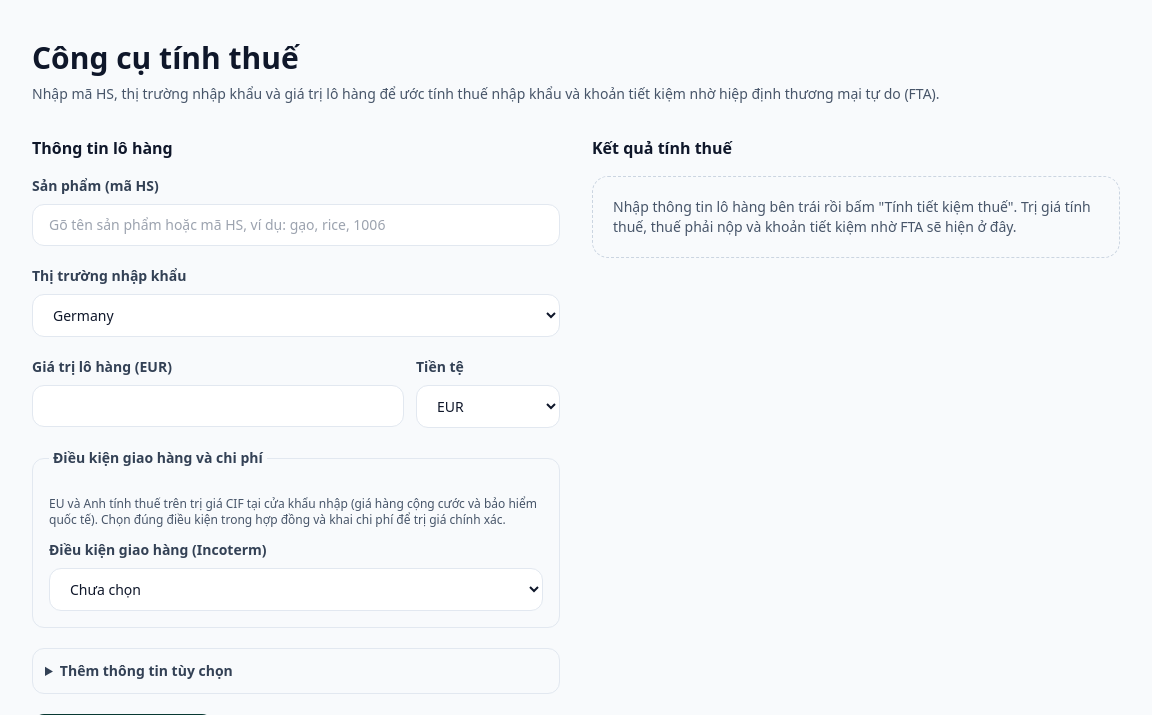
Test case: Gợi ý cước và bảo hiểm (N6a) › không có giá tham khảo: nói rõ là chưa có, không tự điền số nào
This screenshot has width=1152, height=715.
Select "FOB — Giao lên tàu" in the dropdown labelled "Điều kiện giao hàng (Incoterm)" at coordinates (296, 590), box [49,568,543,611]
(page scrolled)
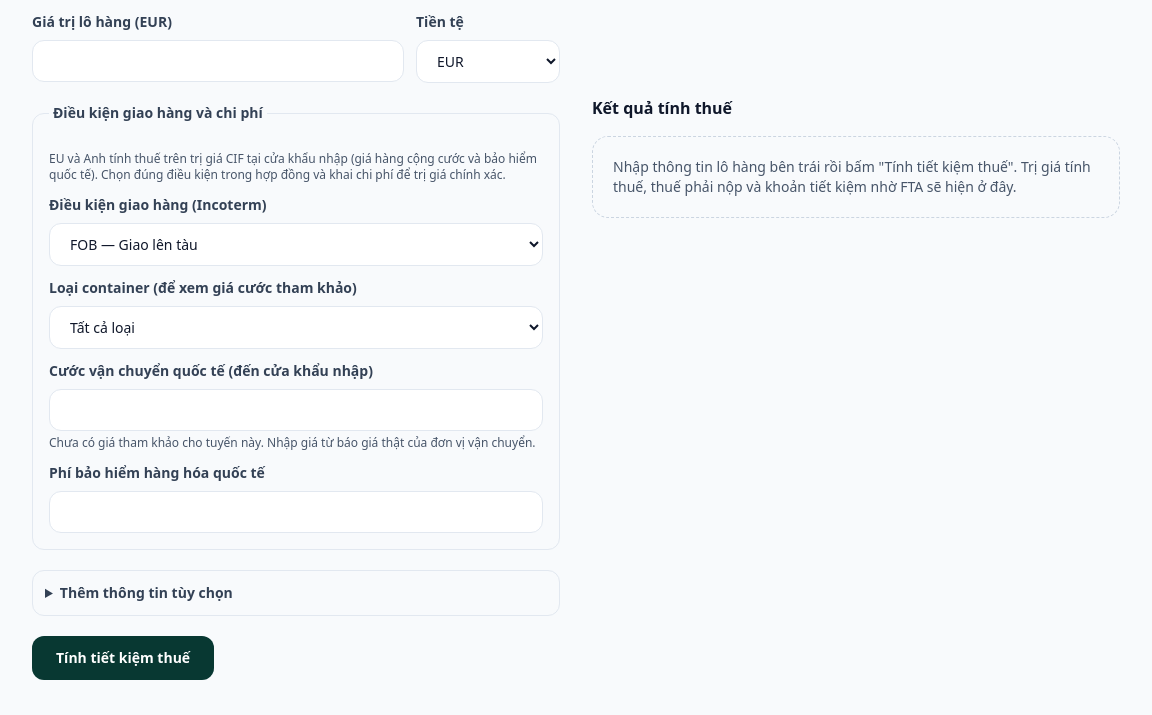
Expected: the text "Chưa có giá tham khảo" is shown, [49,434,536,451]
Expected: the field labelled "Cước vận chuyển quốc tế (đến cửa khẩu nhập)" is empty, [49,389,543,431]
